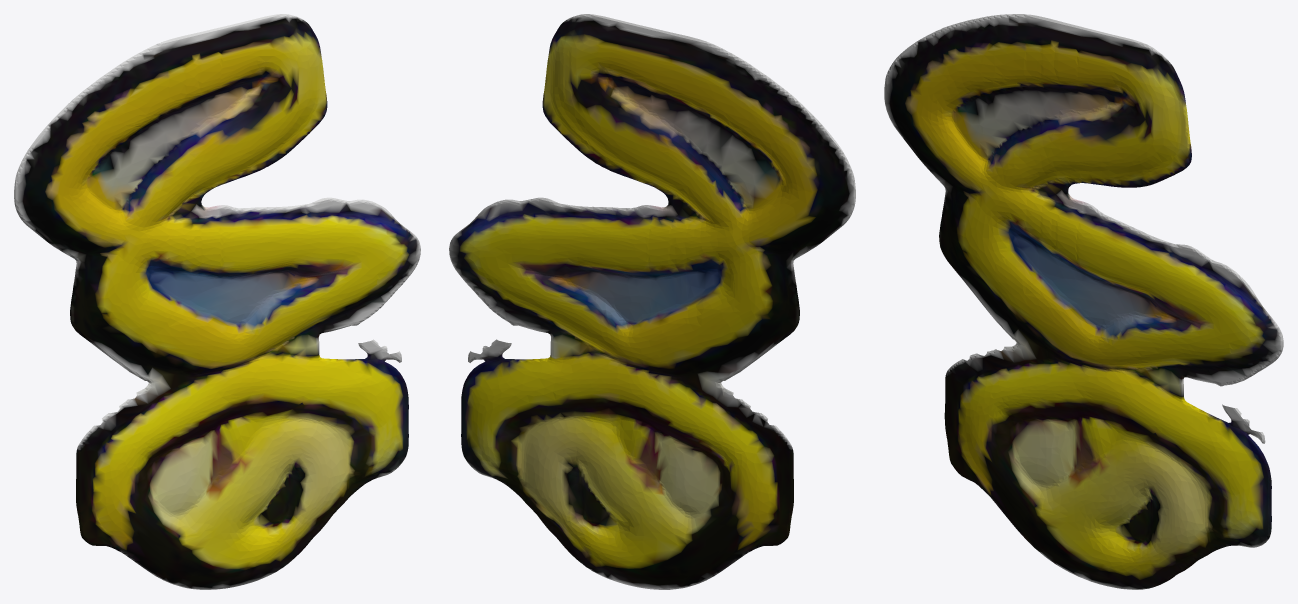
File: amulet_sustenance.glb
The picture shows the model from 3 angles, left to right: view 1: azimuth 30°, elevation 25°; view 2: azimuth 150°, elevation 25°; view 3: azimuth 330°, elevation 25°; orthographic projection.
Visible parts, largest first — view 1: geometry_0; view 2: geometry_0; view 3: geometry_0.
Boxes of the visible parts, x1,y1,x2,y2 form: geometry_0: (14,14,420,589); geometry_0: (449,14,855,589); geometry_0: (884,14,1283,589).
Size of the model in its own units: 0.5 by 0.6618 by 0.0266.
